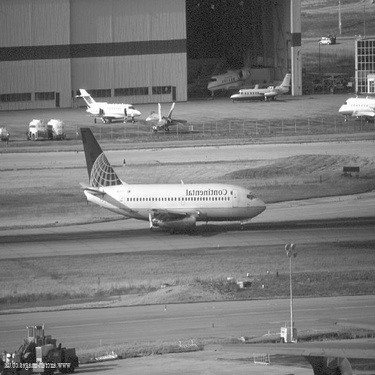airplane: (64, 121, 266, 237), (204, 45, 263, 104), (68, 85, 144, 123), (227, 69, 295, 101), (328, 83, 369, 124), (137, 102, 185, 137)
car: (302, 78, 343, 96), (320, 35, 337, 47)
